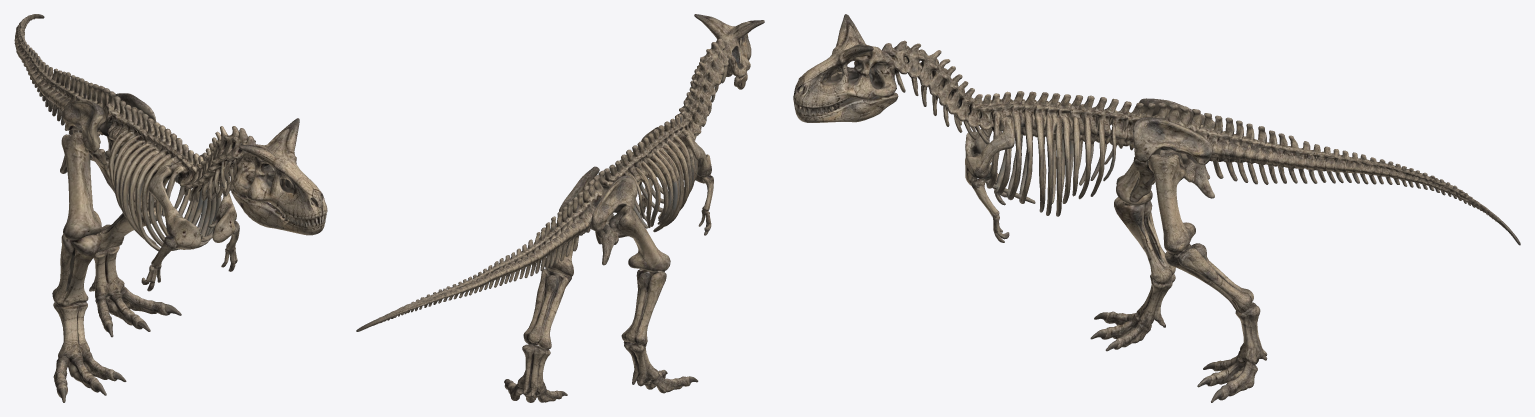
The model's file is carnotaurus_body.glb.
The picture shows the model from 3 angles, left to right: view 1: azimuth 30°, elevation 25°; view 2: azimuth 150°, elevation 25°; view 3: azimuth 270°, elevation 25°; orthographic projection. The views are drawn at different scales.
Parts seen in each view (by area): view 1: body; view 2: body; view 3: body.
Boxes of the visible parts, x1=… form: body: x1=14, y1=14, x2=327, y2=402; body: x1=356, y1=14, x2=764, y2=402; body: x1=793, y1=14, x2=1520, y2=402.
Size of the model in its own units: 0.5864 by 0.9534 by 1.9.
Materials: 1 (1 with a texture image).
